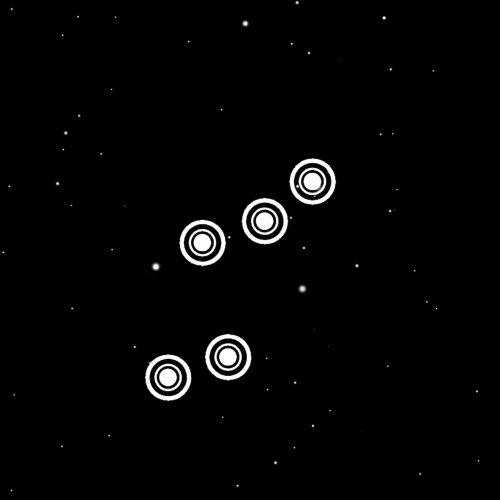lyra: (129, 140, 348, 416)
